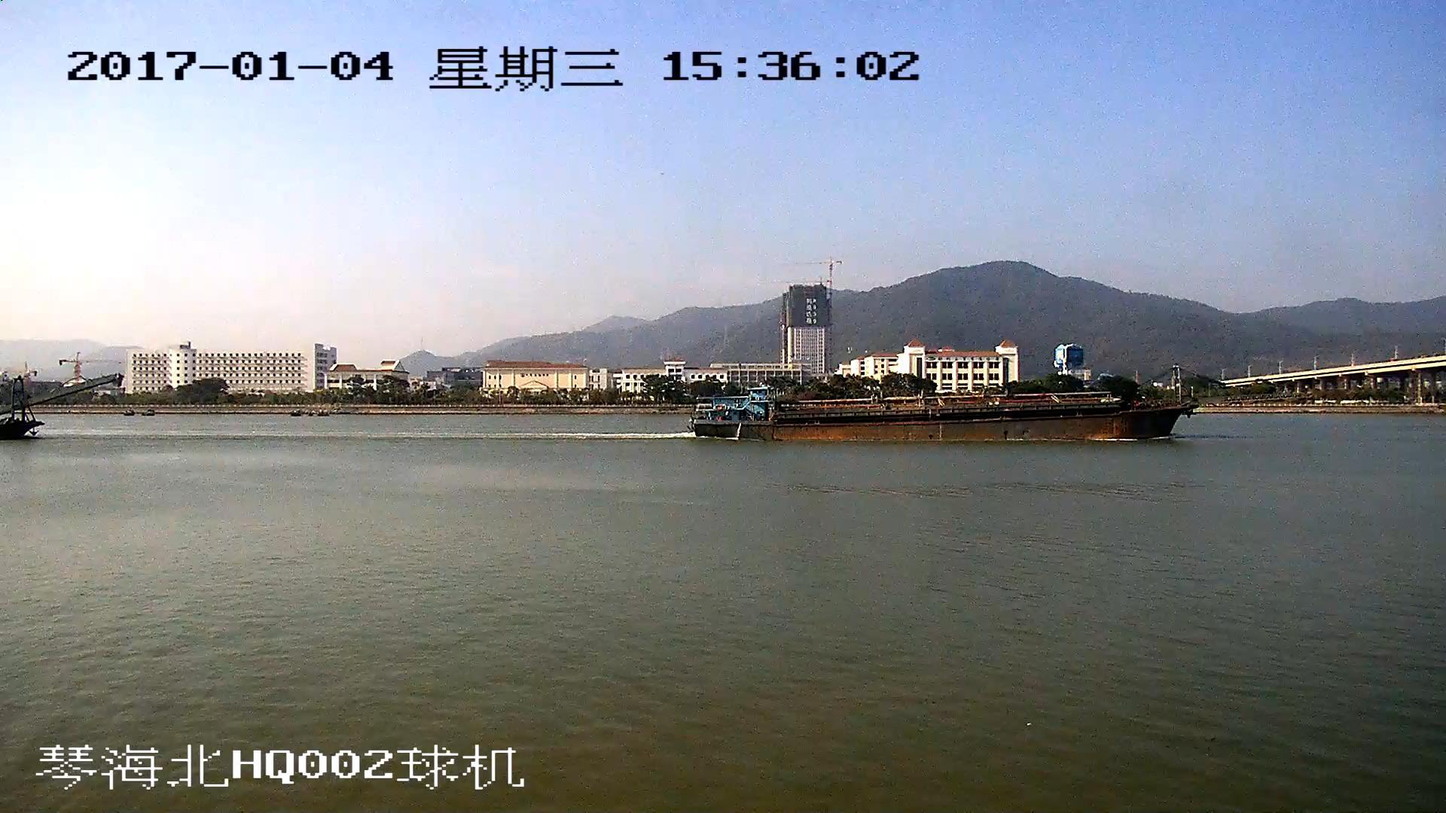bulk cargo carrier: (691, 388, 1190, 440)
